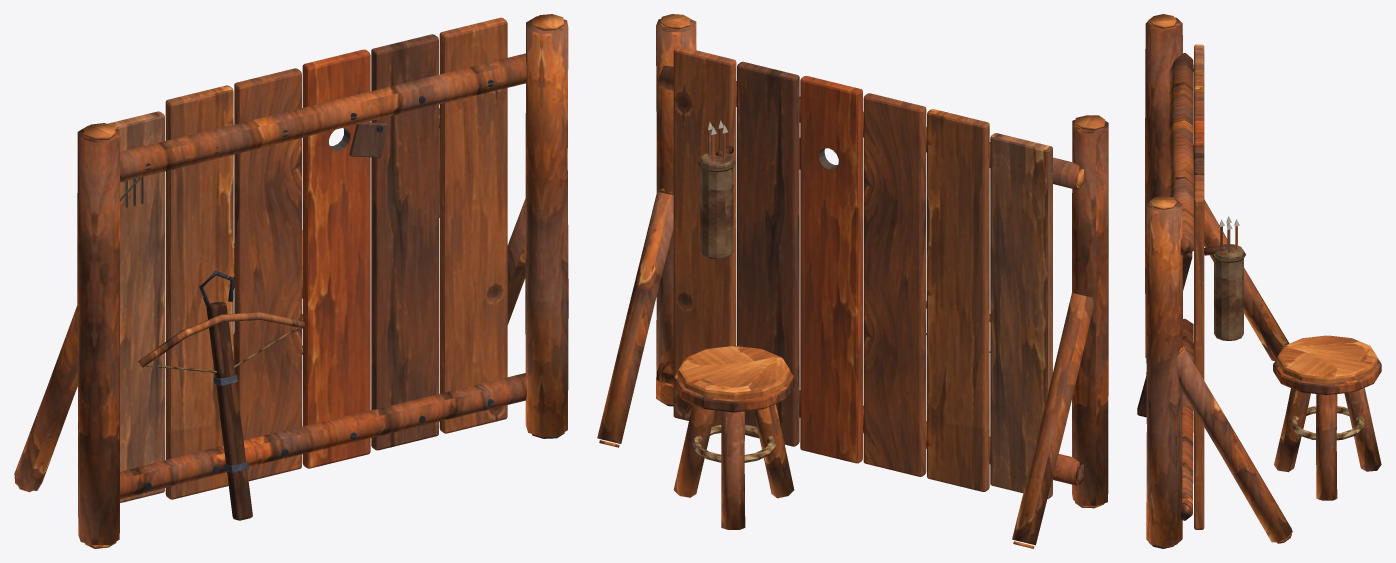
File: op_watch_post.glb
The picture shows the model from 3 angles, left to right: view 1: azimuth 30°, elevation 25°; view 2: azimuth 150°, elevation 25°; view 3: azimuth 270°, elevation 25°; orthographic projection. The views are drawn at different scales.
Parts seen in each view (by area): view 1: model; view 2: model; view 3: model.
Boxes of the visible parts, x1,y1,x2,y2 form: model: (14,14,568,548); model: (597,14,1108,548); model: (1137,14,1381,548).
Size of the model in its own units: 1.57 by 1.27 by 0.8195.
Materials: 22 (20 with a texture image).
